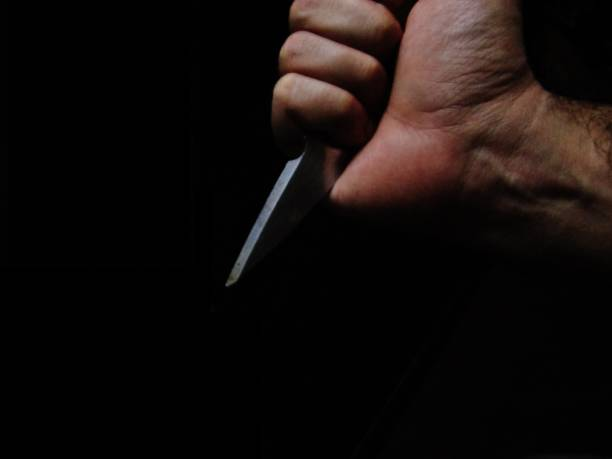knife: (221, 117, 362, 289)
